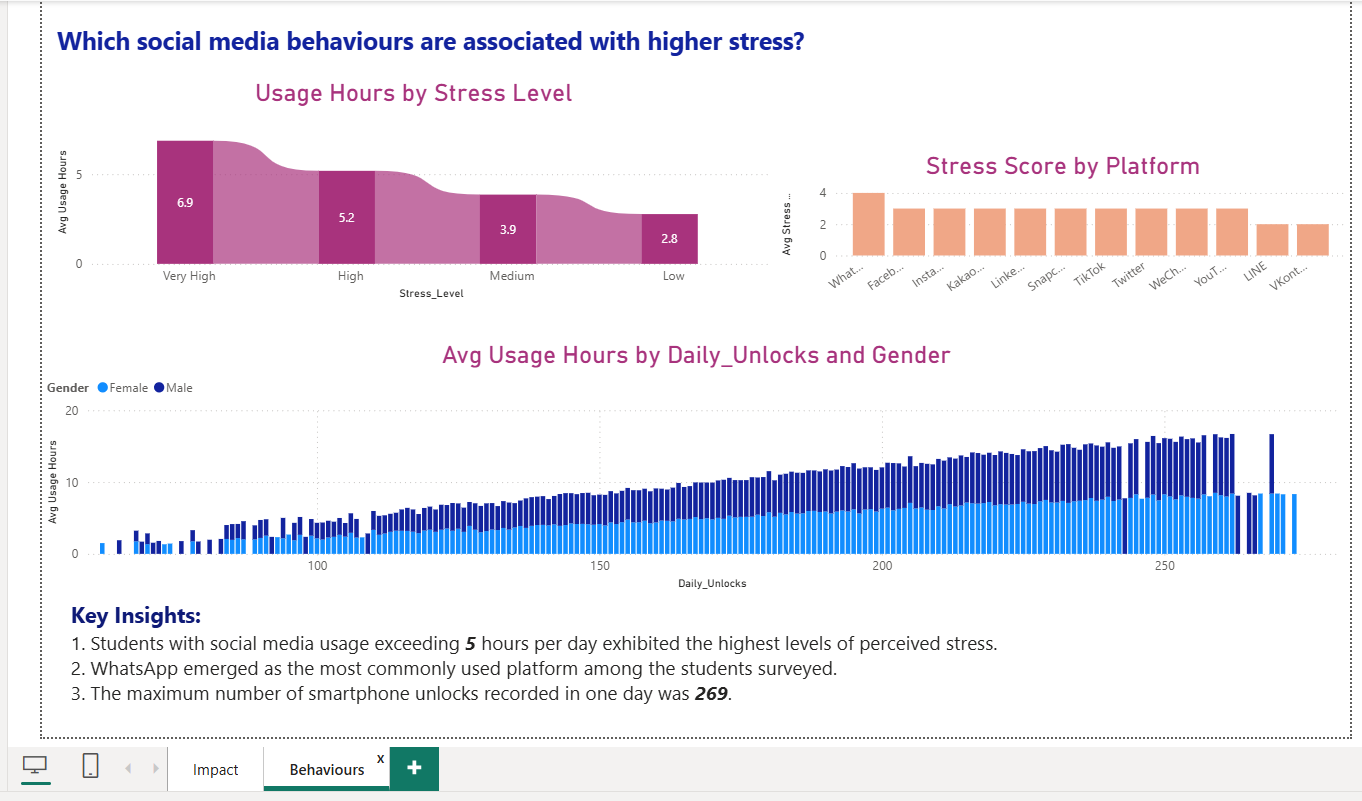

This screenshot's page, from the dashboard's own definition file:
{"tool":"powerbi","page":{"name":"Page 2","canvas":[1280,720],"ordinal":1},"visuals":[{"type":"textbox","box":[9.8,0,915.9,75.8],"z":0},{"type":"ribbonChart","title":"Usage Hours by Stress Level","fields":{"Category":["Students.Stress_Level"],"Y":["Students.Avg Usage Hours"]},"box":[9.8,75.8,708,221.3],"z":1000},{"type":"columnChart","title":"Stress Score by Platform","fields":{"Category":["Students.Most_Used_Platform"],"Y":["Students.Avg Stress Score"]},"box":[717.8,146.7,562.5,150.4],"z":2000},{"type":"columnChart","fields":{"Category":["Students.Daily_Unlocks"],"Series":["Students.Gender"],"Y":["Students.Avg Usage Hours"]},"box":[0,331.4,1280.3,249.5],"z":3000},{"type":"textbox","box":[23.2,580.8,1161.7,139.4],"z":4000}]}

Visuals, with their boxes on the page's 1280x720 design canvas (x1, y1, x2, y2). These are canvas units, not pixel positions in the 1362x801 screenshot, which may show the page scaled, cropped or inside an application window:
textbox: (10,0,926,76)
"Usage Hours by Stress Level" ribbonChart: (10,76,718,297)
"Stress Score by Platform" columnChart: (718,147,1280,297)
columnChart - Students.Daily_Unlocks x Students.Gender: (0,331,1280,581)
textbox: (23,581,1185,720)
